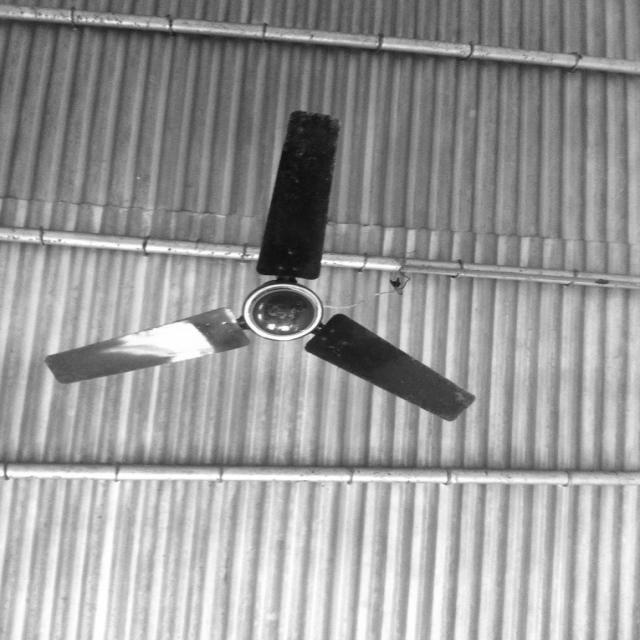fan: (42, 111, 476, 426)
